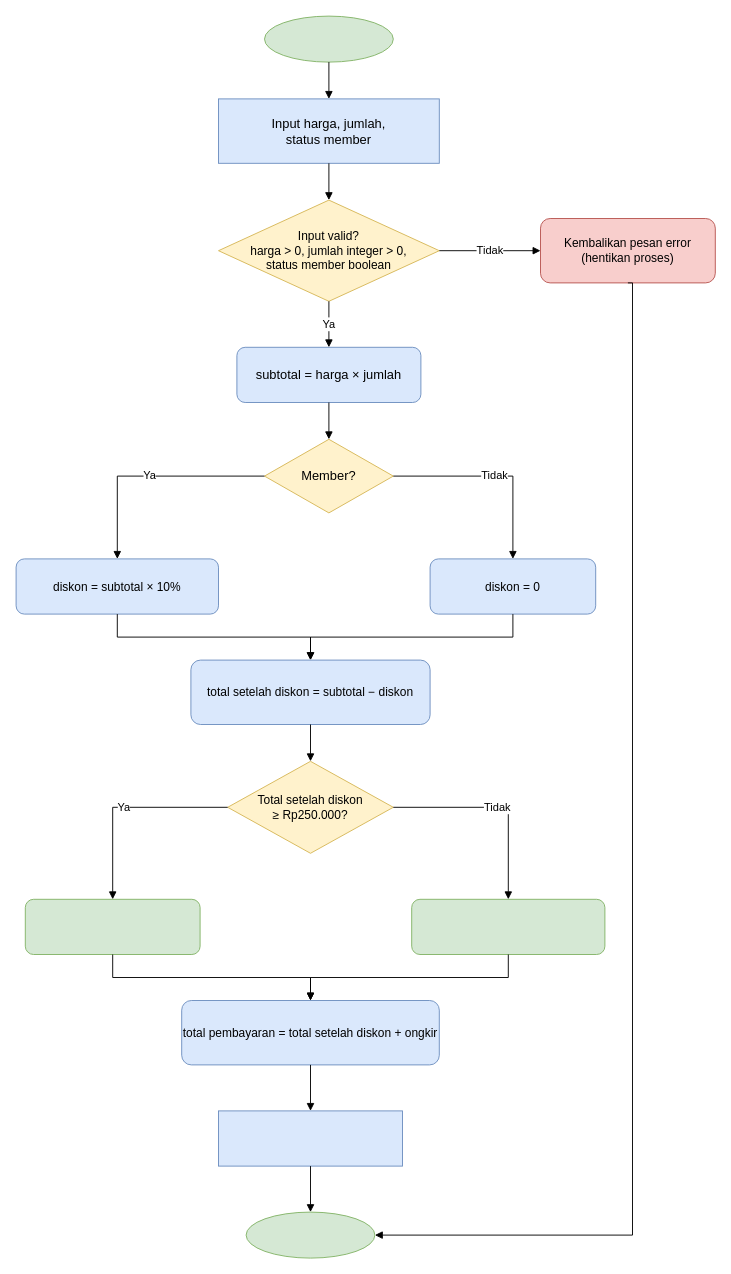
Image size: 731x1274. Some labels were removed from this diagram. The shapes that lost their labels are listed below. From the top down, each one's box as (x1, y1, x2, y2) in pixels, then its label:
(264, 15, 393, 62): Mulai
(24, 898, 200, 954): ongkos kirim = 0
(411, 898, 605, 954): ongkos kirim = 15.000
(218, 1110, 402, 1166): Output rincian checkout
(245, 1211, 375, 1258): Selesai
